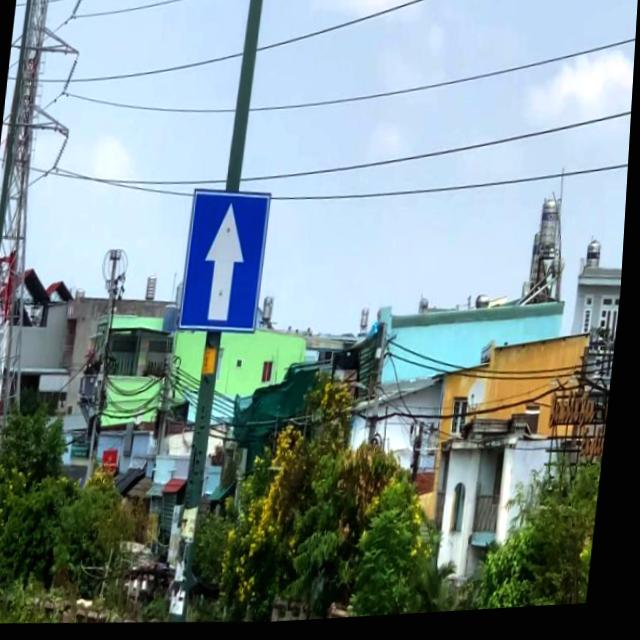Duong mot chieu: (179, 185, 275, 343)
